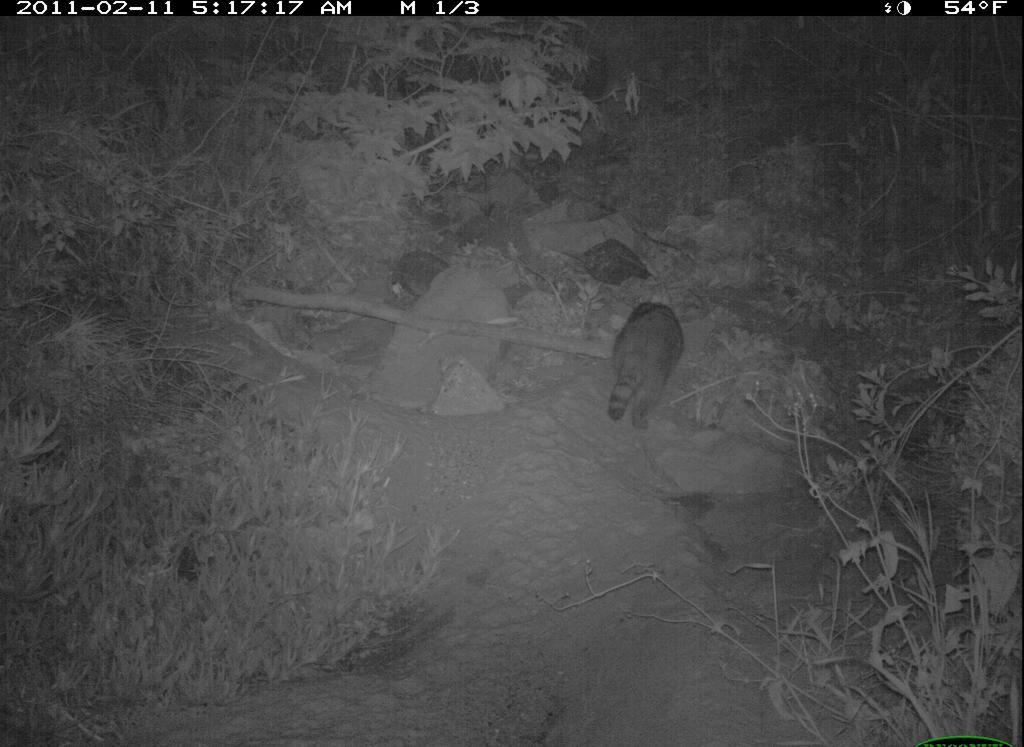raccoon: (587, 290, 689, 449)
